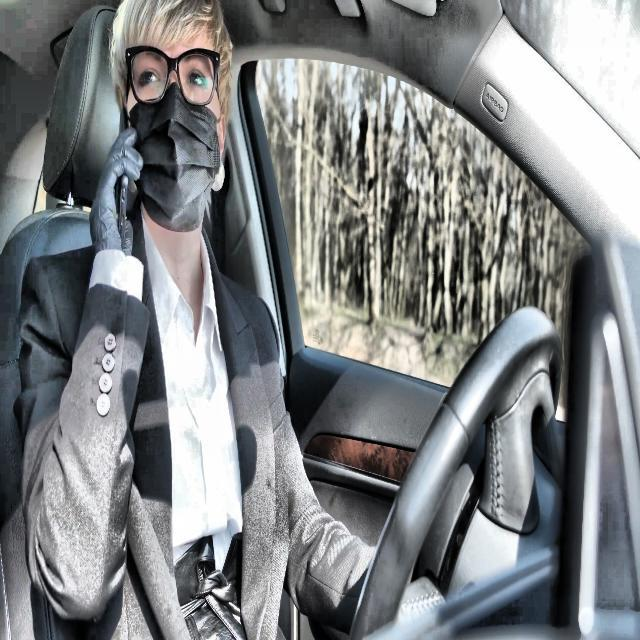Phone: (115, 106, 128, 253)
